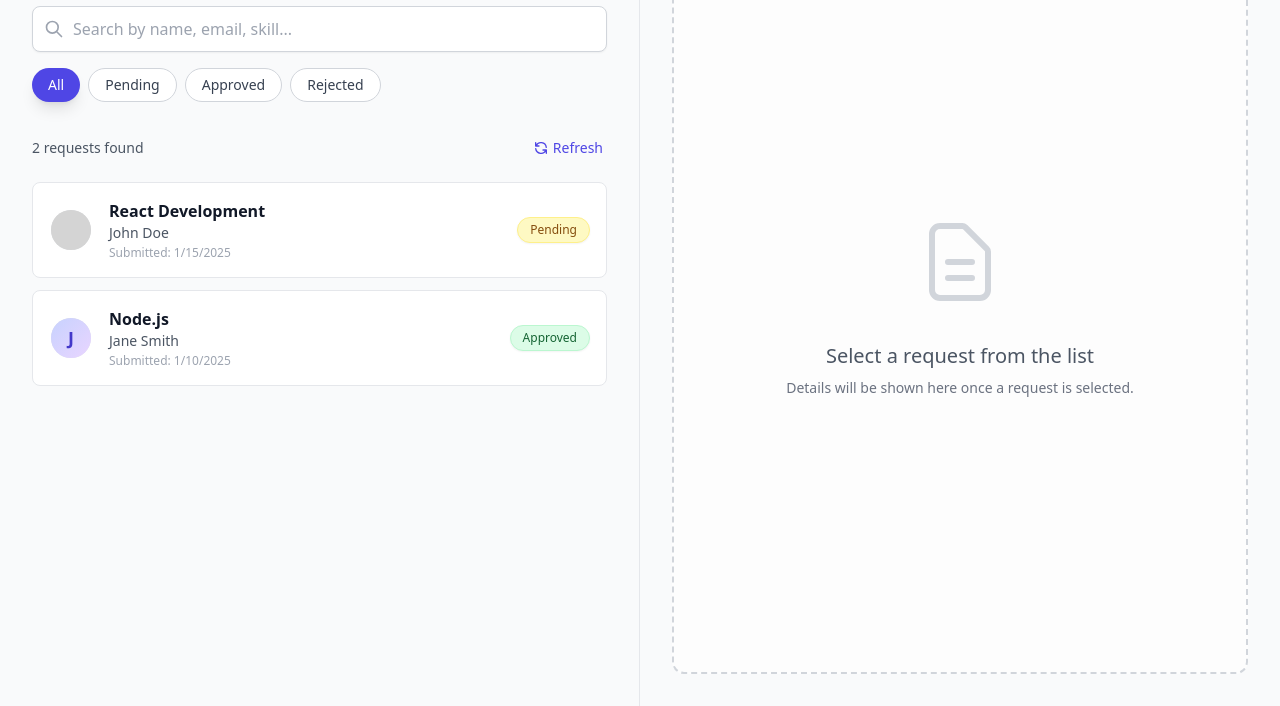
Scenario: Edge Cases › handles empty feedback on rejection
Expected: the heading "React Development" is shown, x1=109 y1=199 x2=265 y2=223
Click the text "React Development" at (187, 211), box x1=109 y1=199 x2=265 y2=261
(page scrolled)
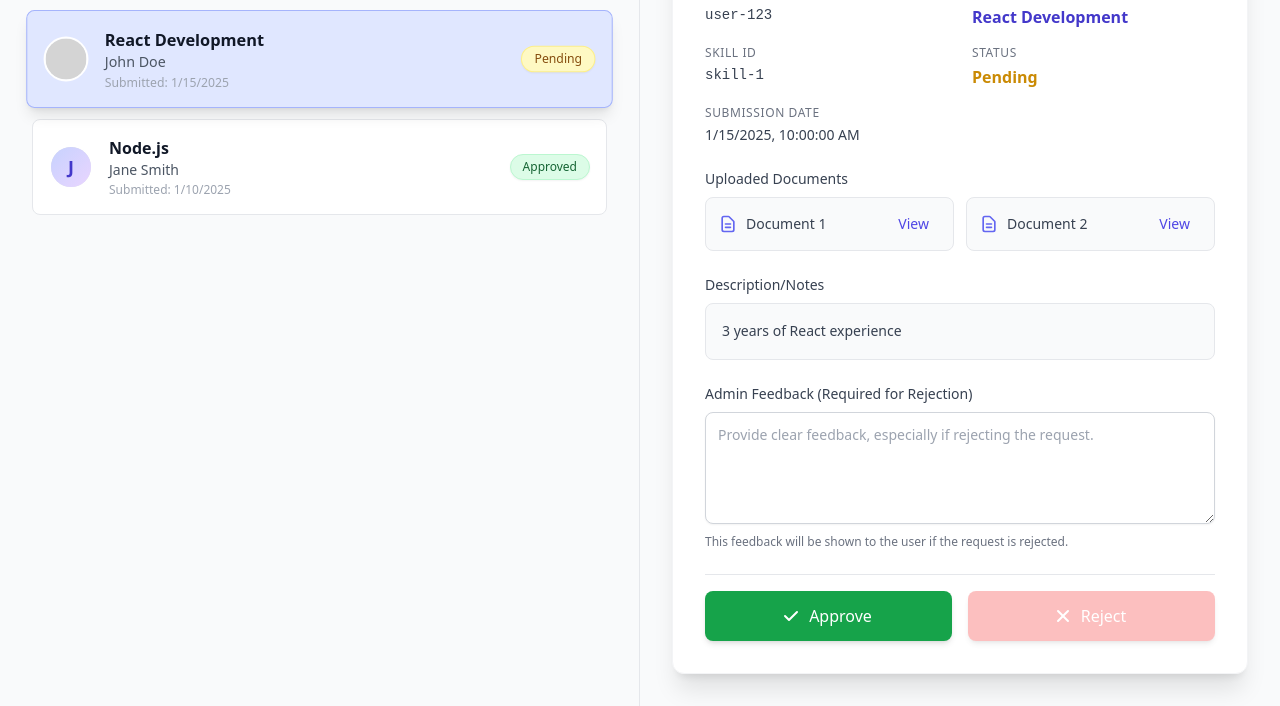
Now the button "Reject" is disabled, box x1=968 y1=591 x2=1215 y2=641
